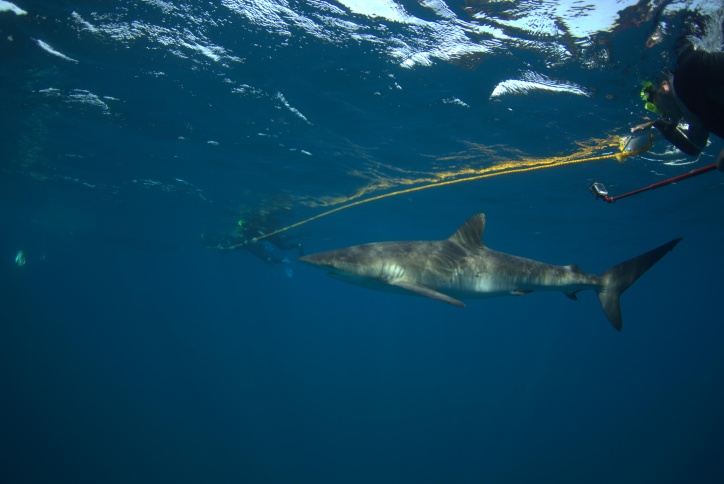Sedoso: (276, 209, 687, 346)
